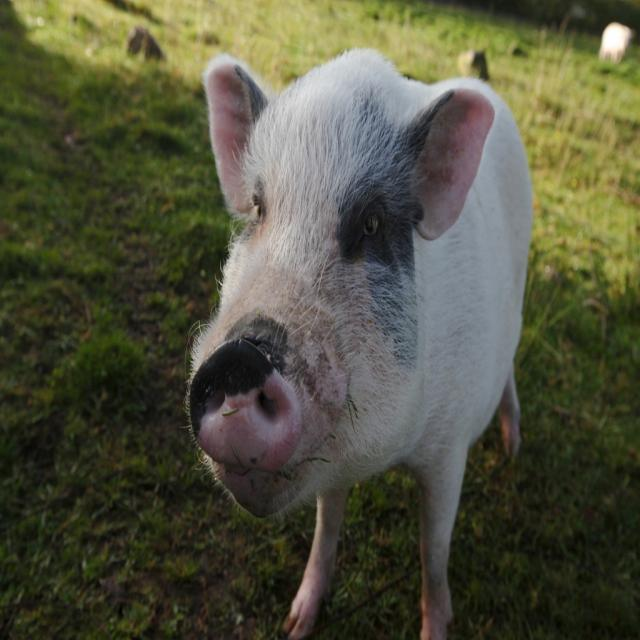Pig: (183, 45, 533, 639), (598, 23, 636, 62)
